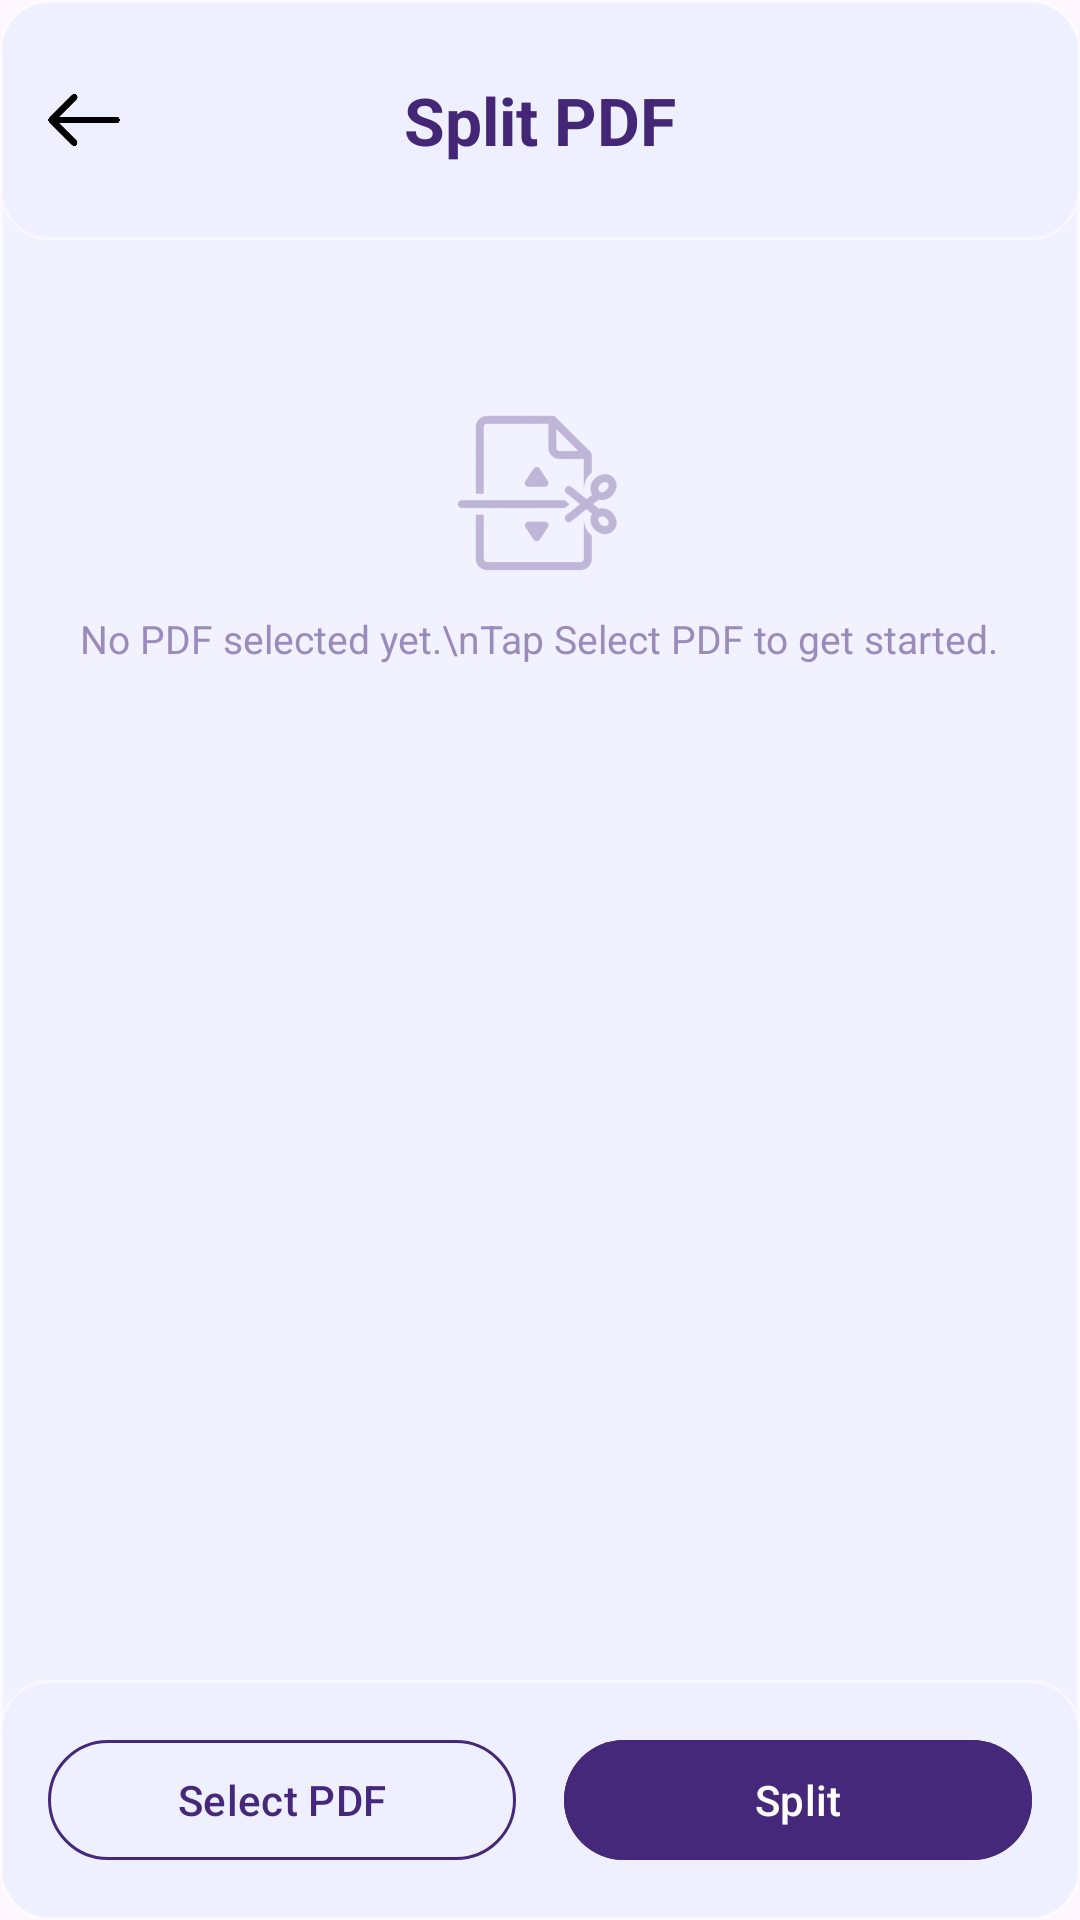

Icons on this 1080 x 1920 Android screen, each with its box as [x1=x1, y1=y1, x2=x2, y2=y2]:
Back: [x1=48, y1=94, x2=120, y2=146]
